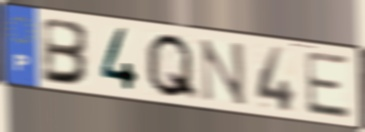4: (253, 43, 300, 115), (99, 25, 140, 95)
B: (41, 15, 93, 88)
E: (302, 48, 354, 121)
N: (199, 37, 250, 109)
Q: (143, 31, 201, 103)
